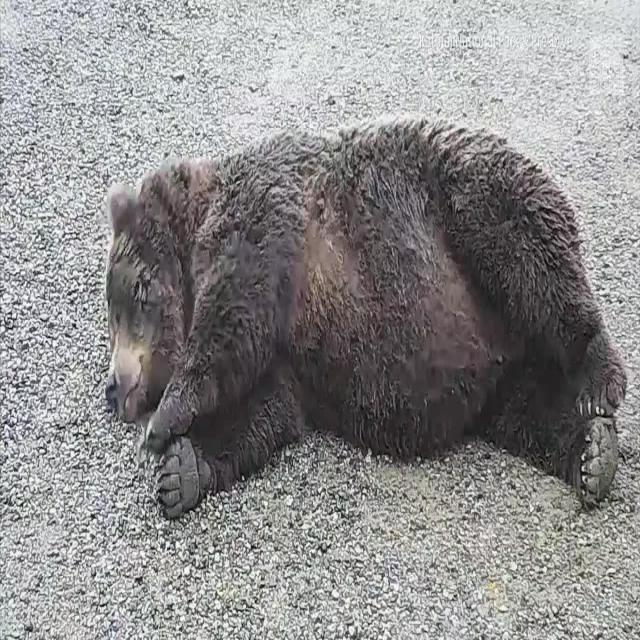Bear: (104, 113, 628, 522)
